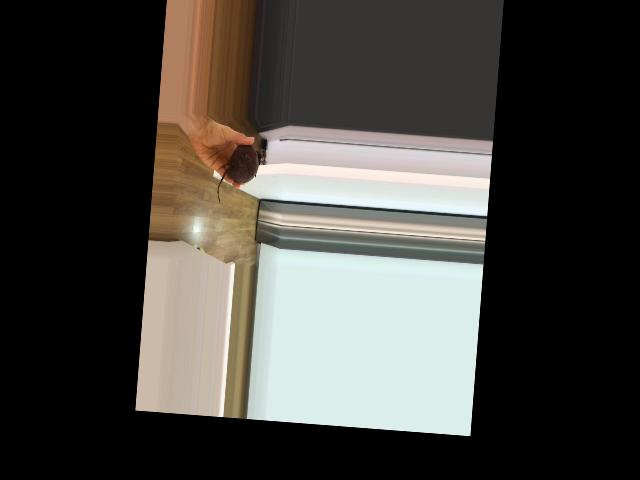beet: (216, 143, 261, 206)
